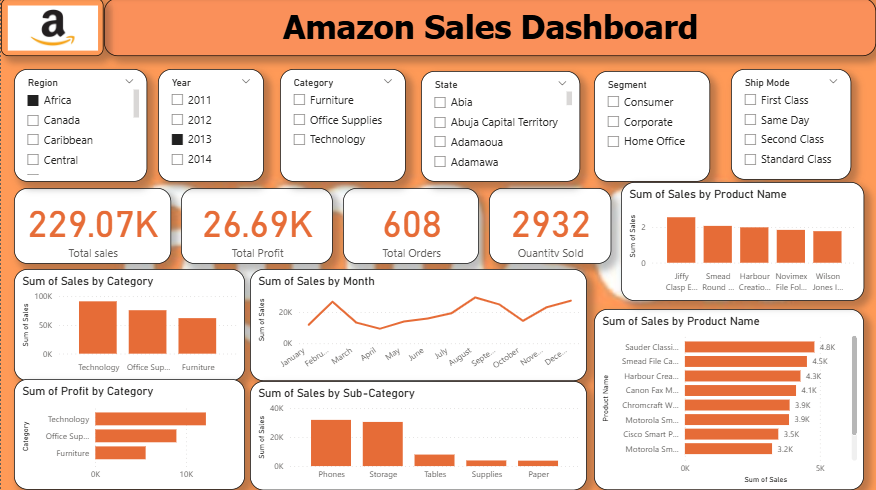

This screenshot's page, from the dashboard's own definition file:
{"tool":"powerbi","page":{"name":"P1","canvas":[1280,720],"ordinal":0},"visuals":[{"type":"textbox","box":[150,0,1129.7,85.1],"z":0},{"type":"image","box":[0,0,150,85.1],"z":1000},{"type":"card","fields":{"Values":["Orders.Total sales"]},"box":[19,278,229.8,111.2],"z":2000},{"type":"card","fields":{"Values":["Orders.Total Profit"]},"box":[263.4,278,222.4,111.2],"z":3000},{"type":"card","fields":{"Values":["Orders.Total Orders"]},"box":[500.5,278,199,111.2],"z":4000},{"type":"card","fields":{"Values":["Orders.Quantity Sold"]},"box":[714.1,278,178.5,111.2],"z":5000},{"type":"clusteredColumnChart","fields":{"Category":["Orders.Category"],"Y":["Sum(Orders.Sales)"]},"box":[19,396.6,338,163.9],"z":6000},{"type":"barChart","fields":{"Y":["Sum(Orders.Profit)"],"Category":["Orders.Category"]},"box":[19,557.6,338,162.4],"z":7000},{"type":"lineChart","fields":{"Y":["Sum(Orders.Sales)"],"Category":["Orders.Order Date.Variation.Date Hierarchy.Month"]},"box":[364.4,396.6,493.2,163.9],"z":8000},{"type":"slicer","fields":{"Values":["Orders.Region"]},"box":[19,103.9,194.6,165.4],"z":9000},{"type":"slicer","fields":{"Values":["Orders.Order Date.Variation.Date Hierarchy.Year"]},"box":[229.8,103.9,155.1,165.4],"z":10000},{"type":"slicer","fields":{"Values":["Orders.Category"]},"box":[408.3,103.9,184.4,165.4],"z":11000},{"type":"slicer","fields":{"Values":["Orders.State"]},"box":[614.6,106.8,232.7,162.4],"z":12000},{"type":"slicer","fields":{"Values":["Orders.Segment"]},"box":[867.8,106.8,169.8,162.4],"z":13000},{"type":"slicer","fields":{"Values":["Orders.Ship Mode"]},"box":[1068.3,103.9,175.6,162.4],"z":14000},{"type":"clusteredColumnChart","fields":{"Y":["Sum(Orders.Sales)"],"Category":["Orders.Sub-Category"]},"box":[364.4,560.5,493.2,159.5],"z":15000},{"type":"barChart","fields":{"Y":["Sum(Orders.Sales)"],"Category":["Orders.Product Name"]},"box":[867.8,455.1,395.1,264.9],"z":16000},{"type":"columnChart","fields":{"Y":["Sum(Orders.Sales)"],"Category":["Orders.Product Name"]},"box":[907.3,269.3,355.6,174.1],"z":17000}]}

Visuals, with their boxes in screenshot pixels (x1, y1, x2, y2), scaled from the page's 1280x720 canvas onto the 876x490 screenshot:
textbox: (103, 0, 875, 58)
image: (0, 0, 103, 58)
card - Orders.Total sales: (13, 189, 170, 265)
card - Orders.Total Profit: (180, 189, 332, 265)
card - Orders.Total Orders: (343, 189, 479, 265)
card - Orders.Quantity Sold: (489, 189, 611, 265)
clusteredColumnChart - Orders.Category x Sum(Orders.Sales): (13, 270, 244, 381)
barChart - Sum(Orders.Profit) x Orders.Category: (13, 379, 244, 489)
lineChart - Sum(Orders.Sales) x Orders.Order Date.Variation.Date Hierarchy.Month: (249, 270, 587, 381)
slicer - Orders.Region: (13, 71, 146, 183)
slicer - Orders.Order Date.Variation.Date Hierarchy.Year: (157, 71, 263, 183)
slicer - Orders.Category: (279, 71, 406, 183)
slicer - Orders.State: (421, 73, 580, 183)
slicer - Orders.Segment: (594, 73, 710, 183)
slicer - Orders.Ship Mode: (731, 71, 851, 181)
clusteredColumnChart - Sum(Orders.Sales) x Orders.Sub-Category: (249, 381, 587, 489)
barChart - Sum(Orders.Sales) x Orders.Product Name: (594, 310, 864, 489)
columnChart - Sum(Orders.Sales) x Orders.Product Name: (621, 183, 864, 302)
